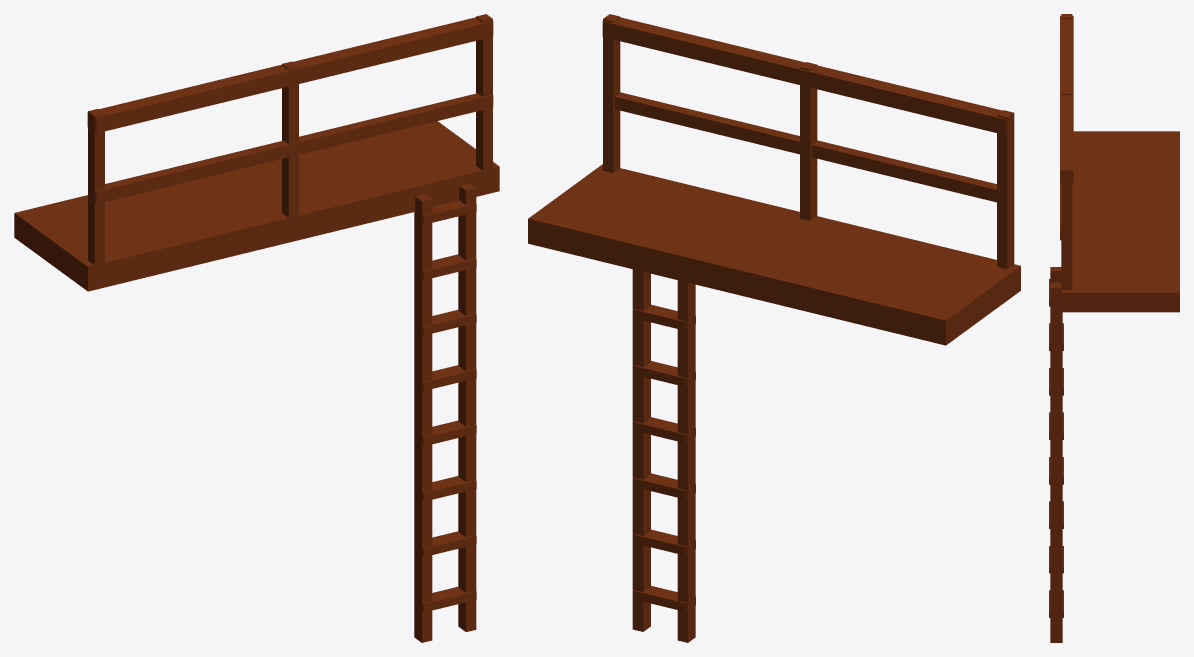
The model's file is fire_escape.obj.
3 views of the same model, side by side, from view 1: azimuth 30°, elevation 25°; view 2: azimuth 150°, elevation 25°; view 3: azimuth 270°, elevation 25° (orthographic). The views are drawn at different scales.
Visible parts, largest first — view 1: fire_escape_module; view 2: fire_escape_module; view 3: fire_escape_module.
Part boxes in pixels (box(x1,y1,x2,y2)): fire_escape_module: box(14, 14, 499, 642); fire_escape_module: box(528, 14, 1020, 642); fire_escape_module: box(1049, 14, 1179, 642).
Bounding box in the file's own units: 2.8 × 3.9 × 0.96.
